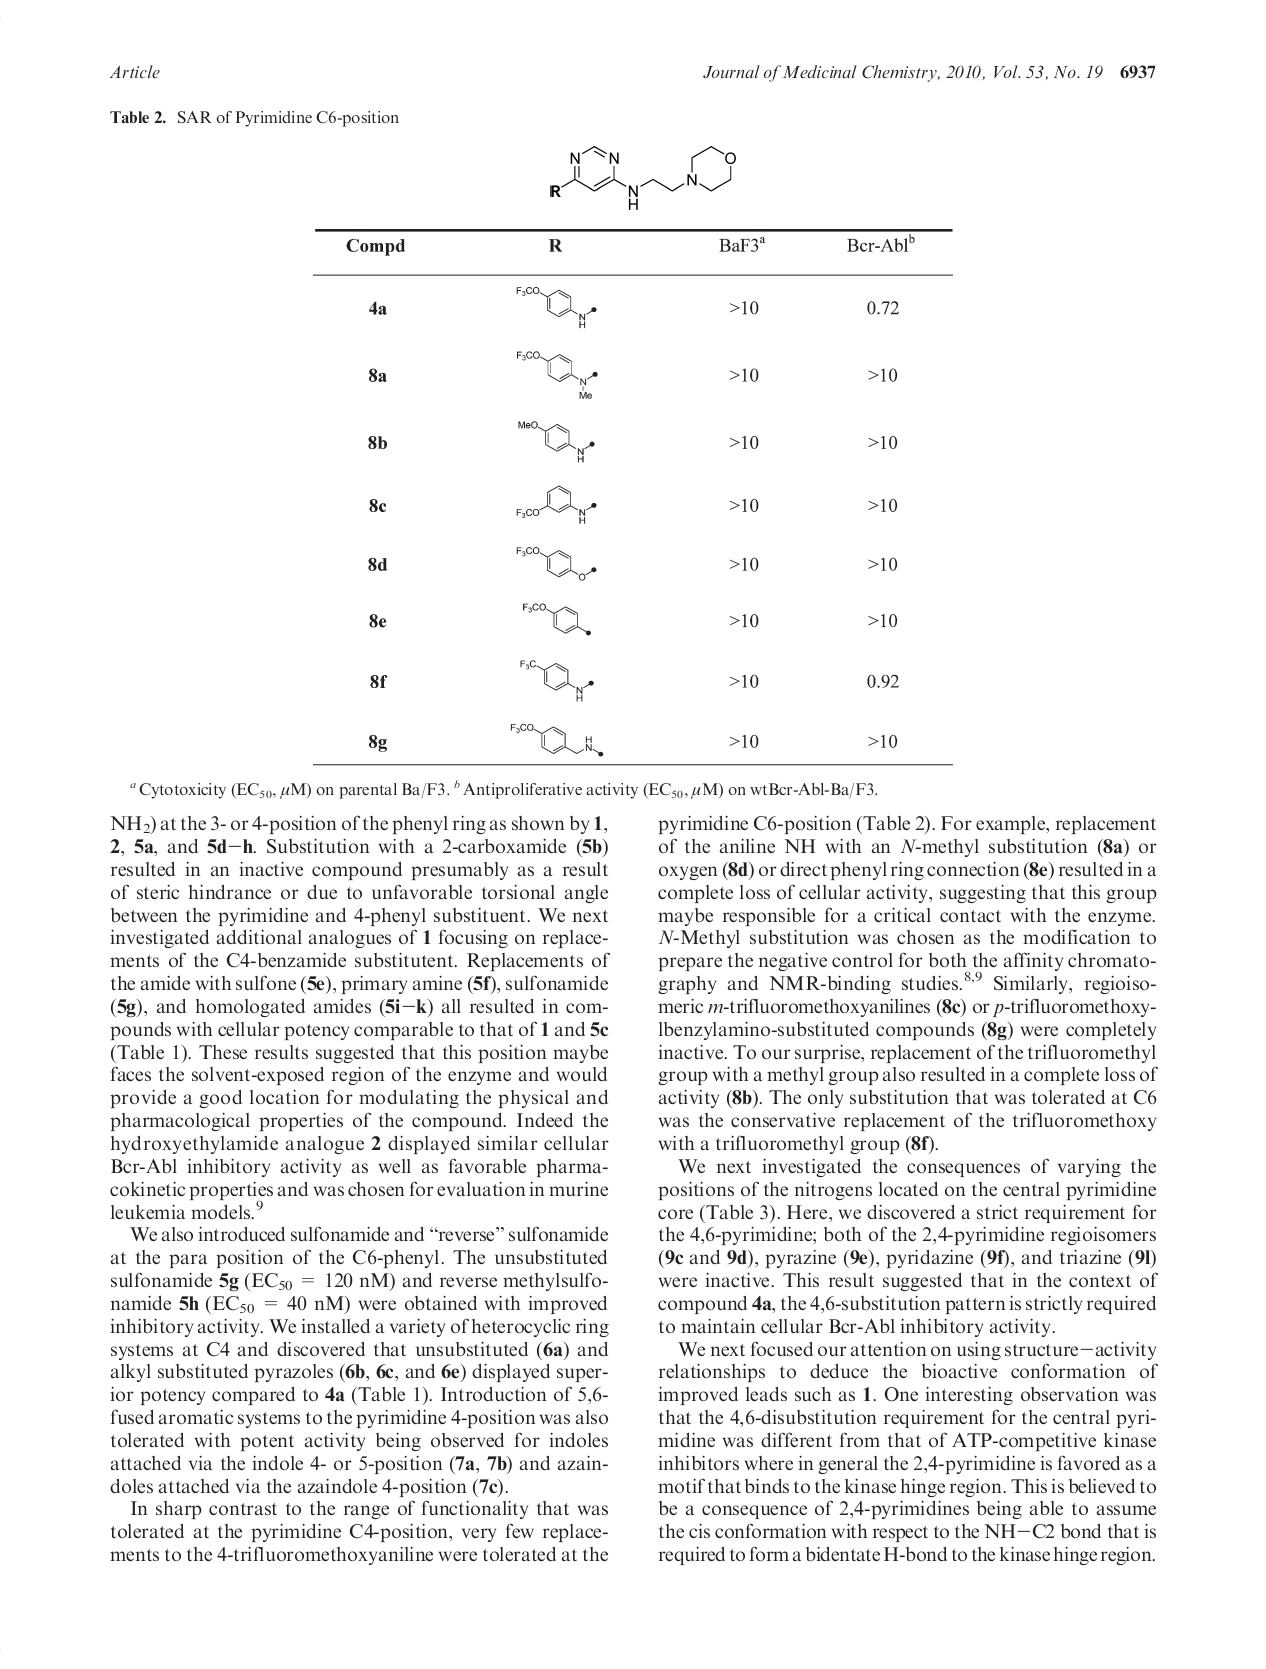exist_molecular: (548, 144, 737, 213), (513, 348, 600, 402), (515, 285, 598, 330), (515, 483, 598, 527), (509, 719, 604, 758), (517, 657, 594, 702), (521, 422, 597, 464), (515, 545, 598, 582), (521, 598, 593, 636)
